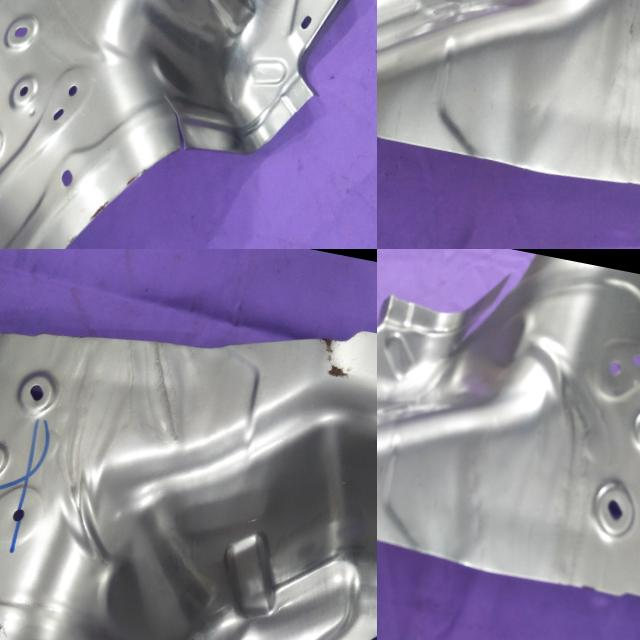Defect: (420, 253, 540, 348), (144, 83, 212, 157)
rust: (73, 146, 154, 237), (304, 322, 377, 402), (377, 54, 424, 173)
